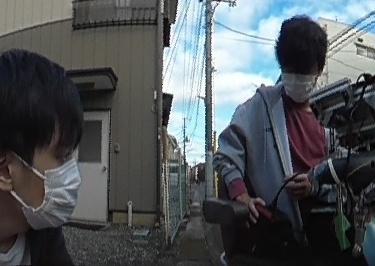person: (214, 21, 351, 266)
